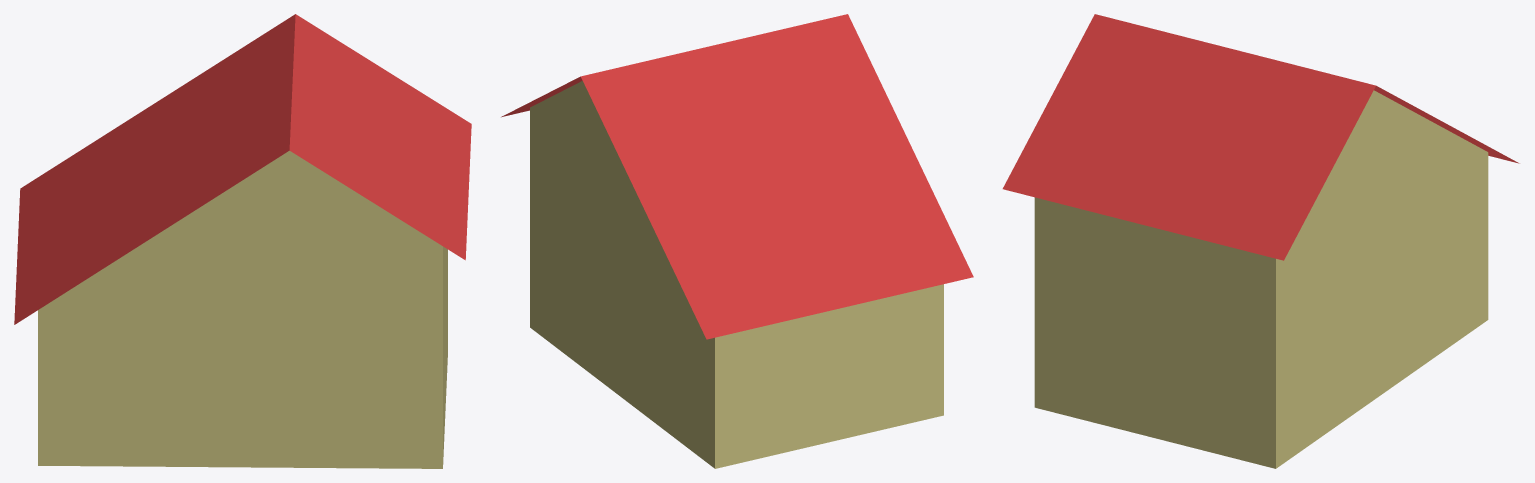
3 renders of one model, left to right at view 1: azimuth 30°, elevation 25°; view 2: azimuth 150°, elevation 25°; view 3: azimuth 270°, elevation 25°, orthographic. The views are drawn at different scales.
Size of the model in its own units: 17.9 by 16.48 by 11.66.
